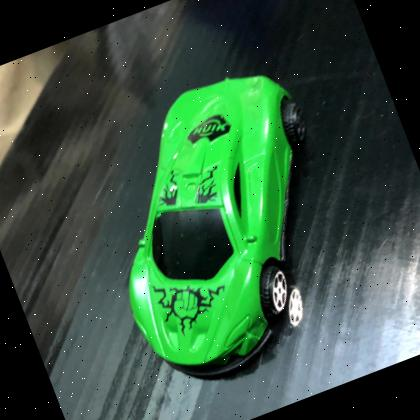Car: (128, 76, 304, 383)
